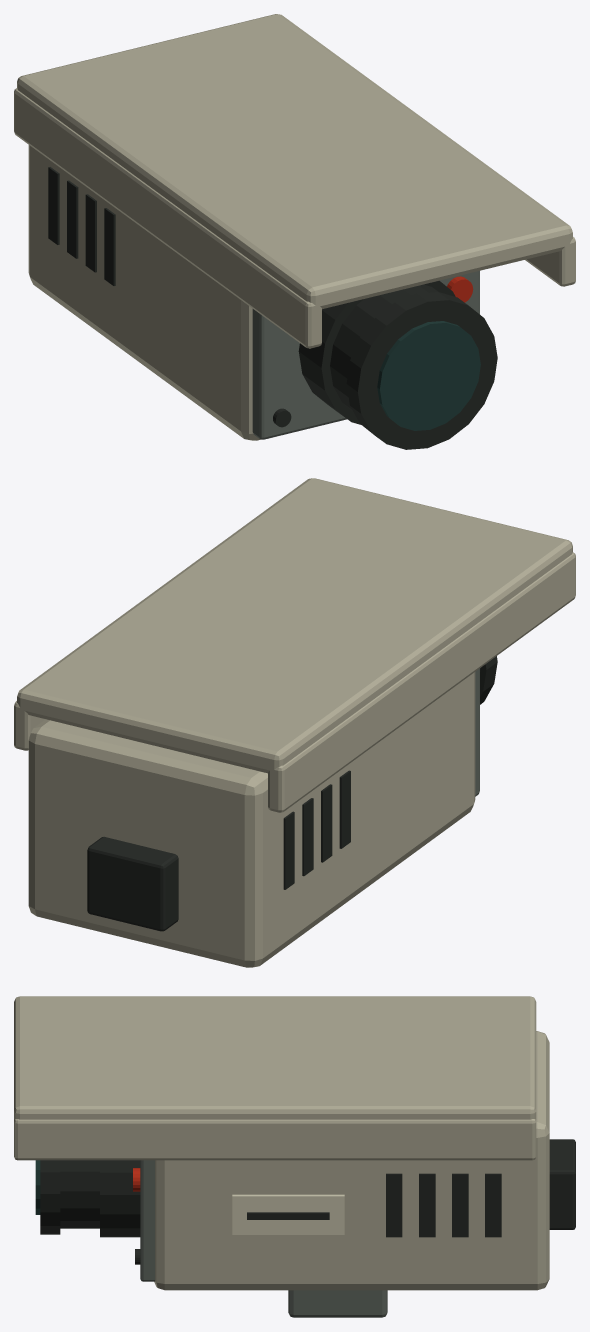
The model's file is surveillance-camera.glb.
3 views of the same model, one above another, from view 1: azimuth 30°, elevation 25°; view 2: azimuth 150°, elevation 25°; view 3: azimuth 270°, elevation 25° (orthographic). The views are drawn at different scales.
Visible parts, largest first — view 1: Sun_hood, Cast_camera_housing, Hood_lip, Lens_barrel.002, Lens_glass, Front_plate, Lens_barrel, Lens_barrel.001, Hood_lip.001, Cooling_slot.002, Cooling_slot, Cooling_slot.001 (+1 smaller); view 2: Sun_hood, Cast_camera_housing, Hood_lip, Rear_connector, Cooling_slot, Cooling_slot.001, Cooling_slot.002, Cooling_slot.003, Hood_lip.001, Front_plate; view 3: Sun_hood, Cast_camera_housing, Hood_lip.001, Serial_label, Lens_barrel, Pivot_lug, Lens_barrel.001, Rear_connector, Front_plate, Lens_barrel.002, Cooling_slot.005, Cooling_slot.006 (+3 smaller).
Boxes of the visible parts, x1,y1,x2,y2 form: Sun_hood: (17,14,572,309); Cast_camera_housing: (28,145,260,440); Hood_lip: (14,88,321,348); Lens_barrel.002: (346,292,497,449); Lens_glass: (377,321,480,430); Front_plate: (252,271,479,439); Lens_barrel: (298,280,455,424); Lens_barrel.001: (330,284,438,410); Hood_lip.001: (525,237,575,286); Cooling_slot.002: (67,180,78,258); Cooling_slot: (104,208,115,285); Cooling_slot.001: (85,194,96,272); Sun_hood: (17,478,572,773); Cast_camera_housing: (28,672,475,967); Hood_lip: (268,552,575,812); Rear_connector: (87,836,178,931); Cooling_slot: (339,770,350,848); Cooling_slot.001: (321,784,332,862); Cooling_slot.002: (302,798,313,876); Cooling_slot.003: (283,811,294,889); Hood_lip.001: (14,701,45,750); Front_plate: (475,668,479,796); Sun_hood: (14,996,536,1119); Cast_camera_housing: (154,1031,549,1290); Hood_lip.001: (14,1119,536,1160); Serial_label: (232,1194,344,1234); Lens_barrel: (100,1160,140,1237); Pivot_lug: (288,1290,387,1317); Lens_barrel.001: (60,1160,99,1228); Rear_connector: (549,1139,575,1229); Front_plate: (140,1160,154,1281); Lens_barrel.002: (40,1160,60,1234); Cooling_slot.005: (419,1173,435,1237); Cooling_slot.006: (452,1173,468,1237).
Size of the model in its own units: 0.417 by 0.4175 by 0.85.
